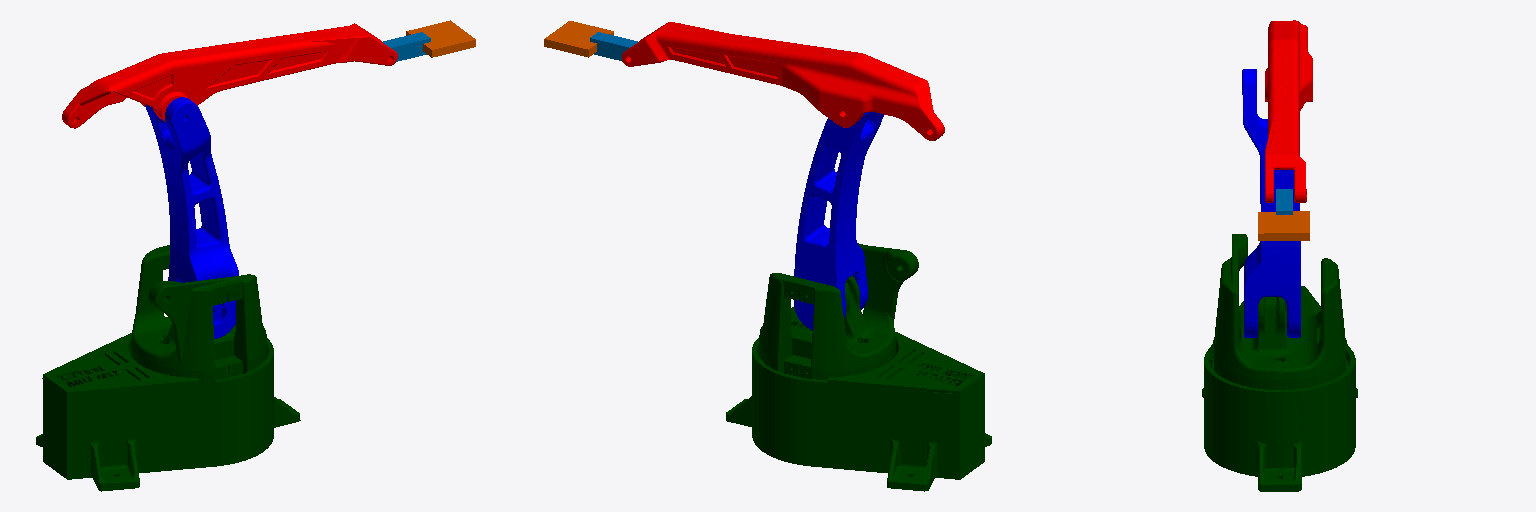
The robot description file, URDF, robot "ebamk2":
<?xml version="1.0"?>

<robot
  name="ebamk2">

<!-- BASE LINK -->
  <link
    name="base_link">
    <visual>
      <origin
        xyz="0 0 0"
        rpy="0 0 0" />
      <geometry>
        <mesh
          filename="package://ebamk2_description/meshes/base_link.STL" />
      </geometry>
      <material
        name="">
        <color
          rgba="0 0.275 0 1" />
      </material>
    </visual>
  </link>

<!-- JOINT 1 -->
  <joint
    name="joint_1"
    type="revolute">
    <origin
      xyz="0 0 0.05"
      rpy="0 0 0" />
    <parent
      link="base_link" />
    <child
      link="link_1" />
    <axis
      xyz="0 0 1" />
    <limit
      effort="0"
      velocity="0"
      lower="-0.7854" upper="0.7854"/>
      <!--   [-45,45]-->
  </joint>

<!-- LINK 1 -->
  <link
    name="link_1">
    <visual>
      <origin
        xyz="0 -0.04 0"
        rpy="0 0 0" />
      <geometry>
        <mesh
          filename="package://ebamk2_description/meshes/link_1.STL" />
      </geometry>
      <material
        name="">
        <color
          rgba="0 0.275 0 1" />
      </material>
    </visual>
  </link>

<!-- JOINT 2 -->
  <joint
    name="joint_2"
    type="revolute">
    <origin
      xyz="0 -0.005 0.035"
      rpy="1.578 0 0" />
    <parent
      link="link_1" />
    <child
      link="link_2" />
    <axis
      xyz="0 0 1" />
    <limit
      effort="0"
      velocity="0"
      lower="-0.6109" upper="0.9599"/>
      <!--   [-35,55]-->
  </joint>

<!-- LINK 2-->
  <link
    name="link_2">
    <visual>
      <origin
        xyz="0 0 0.0075"
        rpy="3.14159 0 0" />
      <geometry>
        <mesh
          filename="package://ebamk2_description/meshes/link_2.STL" />
      </geometry>
      <material
        name="">
        <color
          rgba="0 0 1 1" />
      </material>
    </visual>
  </link>

<!-- JOINT 3 -->
  <joint
    name="joint_3"
    type="revolute">
    <origin
      xyz="-0.021 0.133 -0.0105"
      rpy="0 0 0" />
    <parent
      link="link_2" />
    <child
      link="link_3" />
    <axis
      xyz="0 0 1" />
    <limit
      effort="0"
      velocity="0"
      lower="-1.2217" upper="0.3491"/>
      <!--   [-70,20]-->
  </joint>

<!-- LINK 3 -->
   <link
    name="link_3">
    <visual>
      <origin
        xyz="0 0 0.0335"
        rpy="3.14159 0 0.1309" />
      <geometry>
        <mesh
          filename="package://ebamk2_description/meshes/link_3.STL" />
      </geometry>
      <material
        name="">
        <color
          rgba="1 0 0 1" />
      </material>
    </visual>
  </link>

  <joint name="joint_4" type="revolute">
    <origin xyz="0.147 0 0" rpy="0 0 0" />
    <parent link="link_3" />
    <child link="link_4" />
    <axis xyz="0 0 1" />
    <limit effort="0" velocity="0" lower="-1.01" upper="1.01"/>
  </joint>

  <link name="link_4">
    <visual>
      <origin xyz="0.015 0 0.002" rpy="0 0 0" />
      <geometry>
        <box size="0.03 0.01 0.01" />
      </geometry>
      <material name="blue" />
    </visual>
  </link>

  <joint name="joint_5" type="fixed">
    <origin xyz="0.04 0 0.002" rpy="0 0 0" />
    <parent link="link_4" />
    <child link="claw_base" />
    <axis xyz="1 0 0" />
  </joint>

  <link name="claw_base">
    <visual>
      <origin xyz="0 0 0" rpy="0 0 0" />
      <geometry>
        <box size="0.03 0.005 0.03" />
      </geometry>
      <material name="red" />
    </visual>
  </link>



</robot>

--- What the picture shows (computed from the rendered views, not written in the file) ---
3 views of the same robot in one strip: view 1: azimuth 30°, elevation 25°; view 2: azimuth 150°, elevation 25°; view 3: azimuth 270°, elevation 25° (orthographic).
Model ebamk2 with 6 links and 5 joints (4 revolute, 1 fixed), rooted at base_link, posed every joint at zero.
Links seen in each view (by area): view 1: base_link, link_3, link_1, link_2, claw_base, link_4; view 2: base_link, link_3, link_1, link_2, claw_base, link_4; view 3: base_link, link_1, link_3, link_2, claw_base.
Link boxes in pixels (x1,y1,x2,y2): base_link: (36, 333, 300, 491); link_3: (62, 23, 397, 128); link_1: (131, 245, 266, 382); link_2: (145, 97, 238, 338); claw_base: (406, 20, 475, 57); link_4: (382, 32, 430, 61); base_link: (726, 332, 991, 491); link_3: (622, 22, 944, 140); link_1: (759, 243, 918, 379); link_2: (794, 112, 883, 330); claw_base: (544, 21, 613, 57); link_4: (590, 32, 637, 60); base_link: (1202, 286, 1357, 491); link_1: (1211, 234, 1348, 389); link_3: (1265, 20, 1312, 202); link_2: (1242, 69, 1300, 337); claw_base: (1258, 211, 1309, 240).
Size in the robot's own frame: 0.2807 by 0.0907 by 0.2501 metres.
4 mesh visuals loaded from 4 distinct referenced files (4 binary STL).
